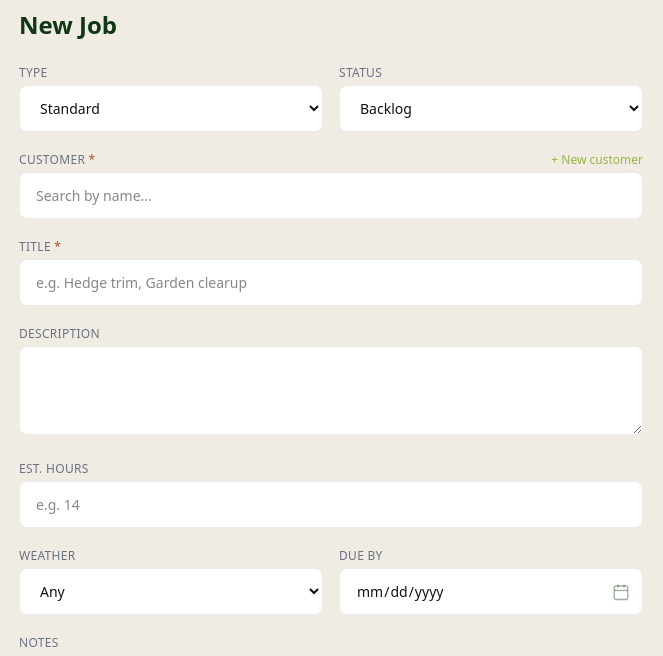
JobForm — Add mode › shows customer dropdown results when searching
Step 1. Type "John" into the field with placeholder "Search by name…" → (331, 196), box 19,172 -> 643,219
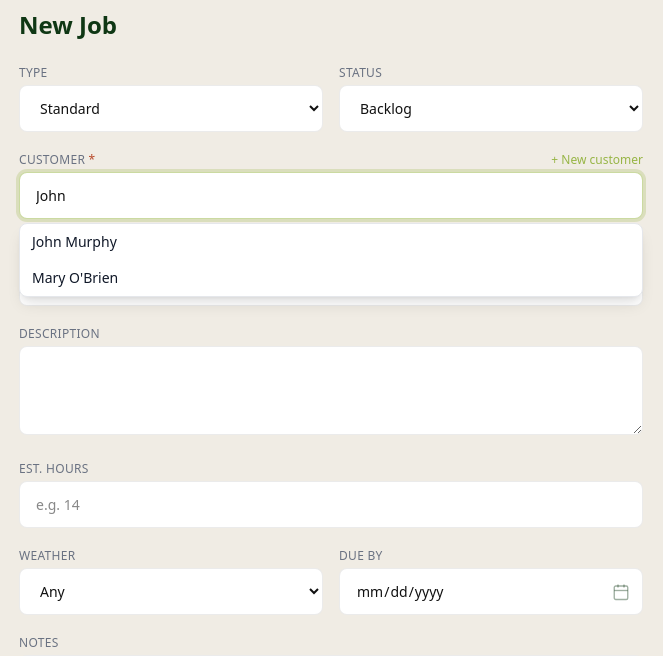
Expected: the button "John Murphy" is shown, 20,224 -> 642,260
